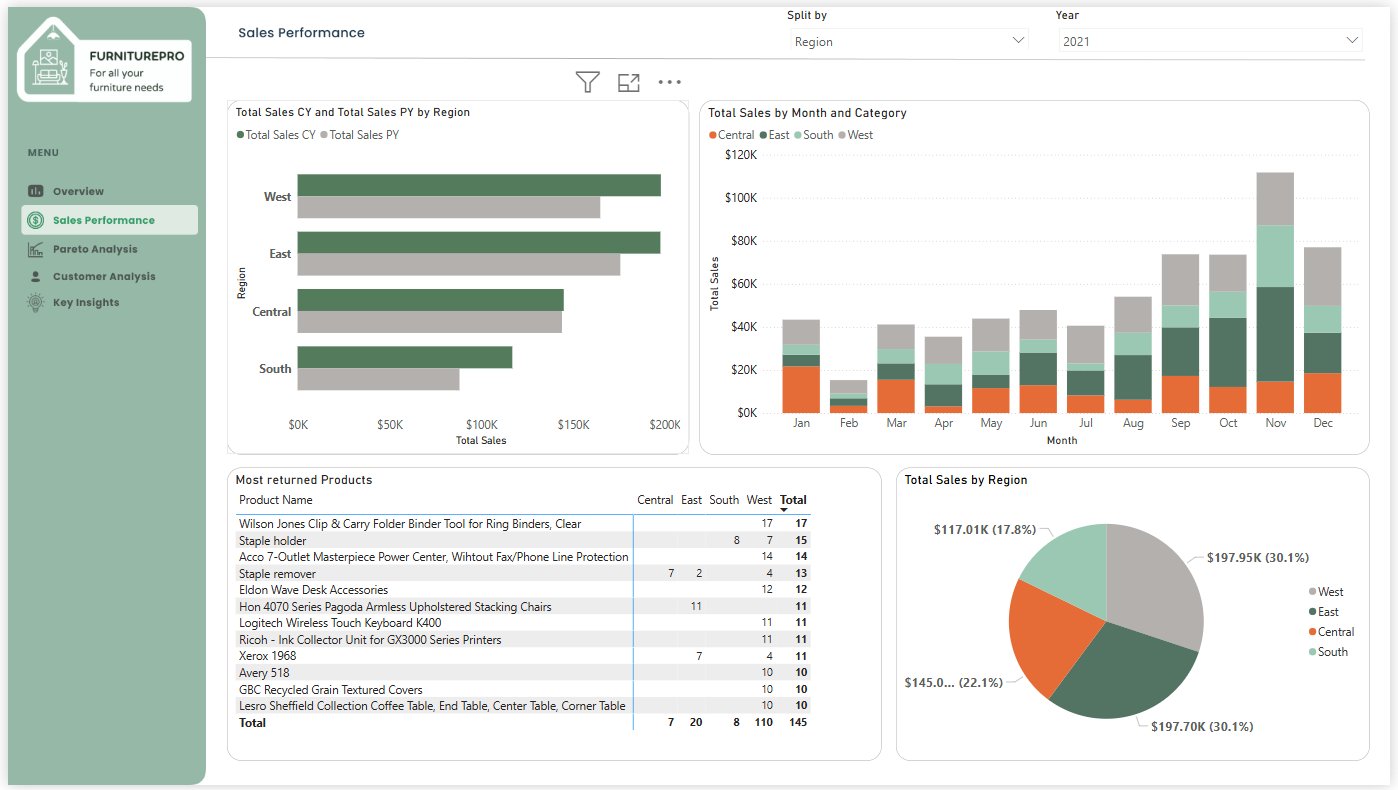

Layout of this report page (visuals, bound fields, positions):
{"tool":"powerbi","page":{"name":"Sales Performance","canvas":[1920,1080],"ordinal":1},"visuals":[{"type":"actionButton","box":[12,236,260,38],"z":0,"group":"g1"},{"type":"pivotTable","title":"Most returned Products","fields":{"Columns":["Location Dim.Region"],"Rows":["Product Dim.Product Name"],"Values":["Measures (2).Return Qty Count"]},"box":[303.6,640,909.1,407.3],"z":0},{"type":"slicer","title":"Split by","fields":{"Values":["Field_parameter .Field_parameter "]},"box":[1076.5,0,351,58.8],"z":1000},{"type":"actionButton","box":[20,274,246,40],"z":1000,"group":"g1"},{"type":"actionButton","box":[20,313.3,246.7,40],"z":2000,"group":"g1"},{"type":"pieChart","fields":{"Category":["Location Dim.Region"],"Y":["Measures (2).Total Sales"]},"box":[1232.7,640,658.2,407.3],"z":2000},{"type":"lineStackedColumnComboChart","title":"Total Sales by Month and Category","fields":{"Series":["Location Dim.Region"],"Y":["Measures (2).Total Sales"],"Category":["Date Dim.Date Hierarchy.Year","Date Dim.Date Hierarchy.Quarter","Date Dim.Date Hierarchy.Month Name"]},"box":[960.9,128.9,930.6,492.8],"z":3000},{"type":"actionButton","box":[20,353.3,246.7,40],"z":3000,"group":"g1"},{"type":"clusteredBarChart","fields":{"Category":["Location Dim.Region"],"Y":["Measures (2).Total Sales","Measures (2).Total Sales PY"]},"box":[303.6,129.1,641.8,492.7],"z":4000},{"type":"actionButton","box":[20,393.3,246.7,40],"z":4000,"group":"g1"},{"type":"slicer","title":"Year","fields":{"Values":["Date Dim.Date Hierarchy.Year"]},"box":[1450,0,441.6,72],"z":5000},{"type":"group","id":"g1","title":"Group 2","box":[12,236,260,197.3],"z":6000}]}

Visuals, with their boxes on the page's 1920x1080 design canvas (x1, y1, x2, y2). These are canvas units, not pixel positions in the 1398x790 screenshot, which may show the page scaled, cropped or inside an application window:
actionButton: [x1=12, y1=236, x2=272, y2=274]
"Most returned Products" pivotTable: [x1=304, y1=640, x2=1213, y2=1047]
"Split by" slicer: [x1=1076, y1=0, x2=1428, y2=59]
actionButton: [x1=20, y1=274, x2=266, y2=314]
actionButton: [x1=20, y1=313, x2=267, y2=353]
pieChart - Location Dim.Region x Measures (2).Total Sales: [x1=1233, y1=640, x2=1891, y2=1047]
"Total Sales by Month and Category" lineStackedColumnComboChart: [x1=961, y1=129, x2=1892, y2=622]
actionButton: [x1=20, y1=353, x2=267, y2=393]
clusteredBarChart - Location Dim.Region x Measures (2).Total Sales: [x1=304, y1=129, x2=945, y2=622]
actionButton: [x1=20, y1=393, x2=267, y2=433]
"Year" slicer: [x1=1450, y1=0, x2=1892, y2=72]
"Group 2" group: [x1=12, y1=236, x2=272, y2=433]
